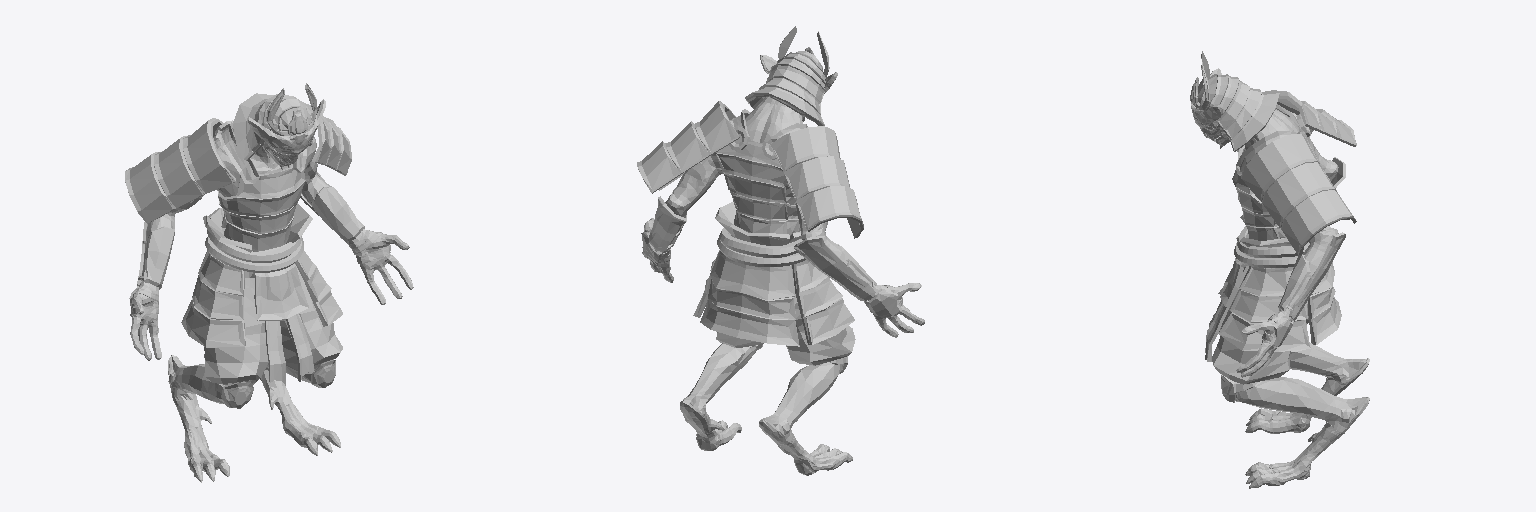
The model's file is hans.obj.
3 renders of one model, left to right at view 1: azimuth 30°, elevation 25°; view 2: azimuth 150°, elevation 25°; view 3: azimuth 270°, elevation 25°, orthographic.
Parts seen in each view (by area): view 1: Plane.017; view 2: Plane.017; view 3: Plane.017.
Boxes of the visible parts, x1=… form: Plane.017: x1=125, y1=83, x2=413, y2=482; Plane.017: x1=637, y1=26, x2=924, y2=475; Plane.017: x1=1190, y1=51, x2=1369, y2=488.
Size of the model in its own units: 10.35 by 14.3 by 5.85.